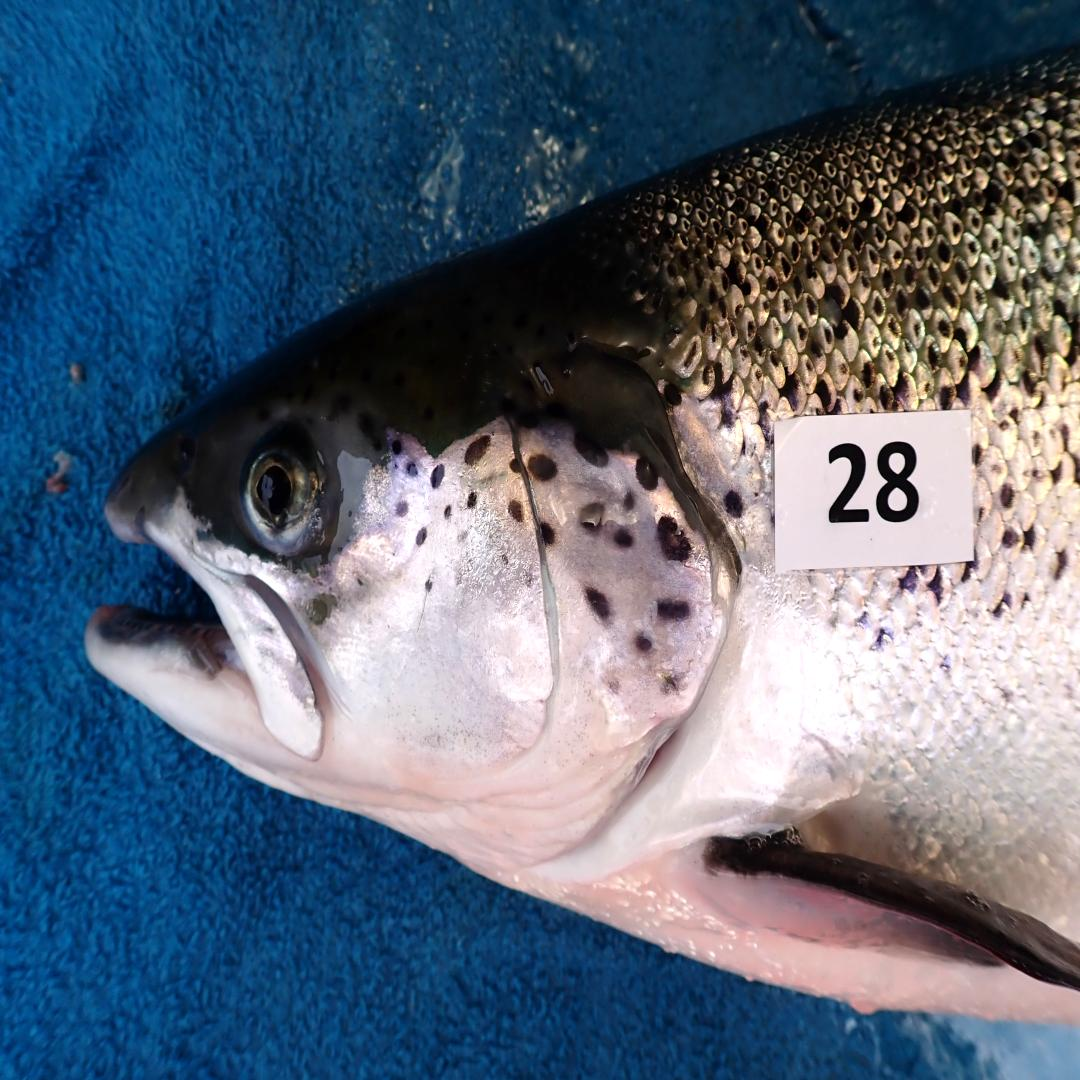roi: (320, 417, 728, 880)
